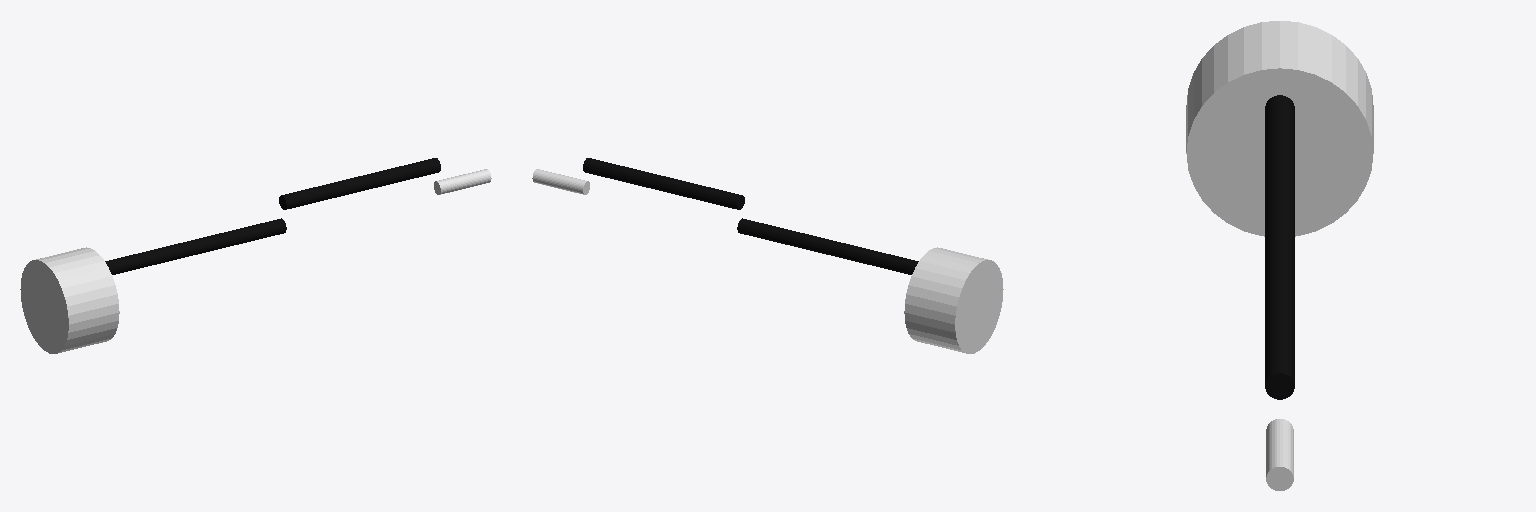
The robot description file, URDF, robot "scara_arm":
<?xml version="1.0" ?>
<!-- =================================================================================== -->
<!-- |    This document was autogenerated by xacro from scara.urdf.xacro               | -->
<!-- |    EDITING THIS FILE BY HAND IS NOT RECOMMENDED                                 | -->
<!-- =================================================================================== -->
<robot name="scara_arm" xmlns:xacro="http://www.ros.org/wiki/xacro">
  <link name="base_link">
    <visual>
      <geometry>
        <cylinder length="0.115" radius="0.095"/>
      </geometry>
      <origin rpy="0 1.57079632679 0" xyz="0.0575 0 0"/>
      <material name="aluminium">
        <color rgba="0.9 0.9 0.9 1"/>
      </material>
    </visual>
    <collision>
      <geometry>
        <cylinder length="0.115" radius="0.1"/>
      </geometry>
      <origin rpy="0 1.57079632679 0" xyz="0.115 0 0"/>
    </collision>
  </link>
  <link name="arm">
    <visual>
      <geometry>
        <cylinder length="0.425" radius="0.015"/>
      </geometry>
      <origin rpy="0 1.57079632679 0" xyz="0.2125 0 0"/>
      <material name="carbon">
        <color rgba="0.1 0.1 0.1 1"/>
      </material>
    </visual>
    <collision>
      <geometry>
        <cylinder length="0.425" radius="0.02"/>
      </geometry>
      <origin rpy="0 1.57079632679 0" xyz="0.2125 0 0"/>
    </collision>
  </link>
  <link name="fore_arm">
    <visual>
      <geometry>
        <cylinder length="0.35" radius="0.015"/>
      </geometry>
      <origin rpy="0 1.57079632679 0" xyz="0.175 0 0"/>
      <material name="carbon"/>
    </visual>
    <collision>
      <geometry>
        <cylinder length="0.35" radius="0.02"/>
      </geometry>
      <origin rpy="0 1.57079632679 0" xyz="0.175 0 0"/>
    </collision>
  </link>
  <link name="effector">
    <visual>
      <geometry>
        <cylinder length="0.115" radius="0.014"/>
      </geometry>
      <origin rpy="0 1.57079632679 0" xyz="0.0575 0 0"/>
      <material name="aluminium"/>
    </visual>
    <collision>
      <geometry>
        <cylinder length="0.115" radius="0.019"/>
      </geometry>
      <origin rpy="0 1.57079632679 0" xyz="0.0575 0 0"/>
    </collision>
  </link>
  <link name="tool0"/>
  <joint name="shoulder" type="revolute">
    <parent link="base_link"/>
    <child link="arm"/>
    <origin rpy="0 0 0" xyz="0.115 0 0.05"/>
    <axis xyz="0 0 1"/>
    <limit effort="1000.0" lower="-2.35619449019" upper="2.35619449019" velocity="0.5"/>
  </joint>
  <joint name="elbow" type="revolute">
    <parent link="arm"/>
    <child link="fore_arm"/>
    <origin rpy="0 0 0" xyz="0.425 0 0.05"/>
    <axis xyz="0 0 1"/>
    <limit effort="1000.0" lower="-2.98" upper="2.98" velocity="0.5"/>
  </joint>
  <joint name="wrist" type="revolute">
    <parent link="fore_arm"/>
    <child link="effector"/>
    <origin rpy="0 0 0" xyz="0.35 0 -0.05"/>
    <axis xyz="0 0 1"/>
    <limit effort="1000.0" lower="-2.98" upper="2.98" velocity="0.5"/>
  </joint>
  <joint name="joint_tool" type="fixed">
    <parent link="effector"/>
    <child link="tool0"/>
    <origin rpy="0 0 0" xyz="0 0 0"/>
  </joint>
</robot>

--- What the picture shows (computed from the rendered views, not written in the file) ---
The picture shows the robot from 3 angles, left to right: view 1: azimuth 30°, elevation 25°; view 2: azimuth 150°, elevation 25°; view 3: azimuth 270°, elevation 25°; orthographic projection.
Model scara_arm with 5 links and 4 joints (3 revolute, 1 fixed), rooted at base_link, posed all joints at 0.
Visible links, largest first — view 1: base_link, arm, fore_arm, effector; view 2: base_link, arm, fore_arm, effector; view 3: base_link, fore_arm, arm, effector.
Link boxes in pixels (x1,y1,x2,y2): base_link: [20, 247, 119, 353]; arm: [105, 218, 286, 274]; fore_arm: [279, 158, 440, 209]; effector: [434, 169, 491, 194]; base_link: [904, 247, 1003, 353]; arm: [737, 218, 918, 274]; fore_arm: [583, 158, 744, 209]; effector: [532, 169, 589, 194]; base_link: [1186, 21, 1373, 236]; fore_arm: [1265, 227, 1294, 399]; arm: [1265, 95, 1294, 237]; effector: [1266, 419, 1293, 490].
Bounding box of the posed robot: 1 × 0.19 × 0.21 m (x, y, z).
Geometry: primitives only (box / cylinder / sphere), no mesh files.